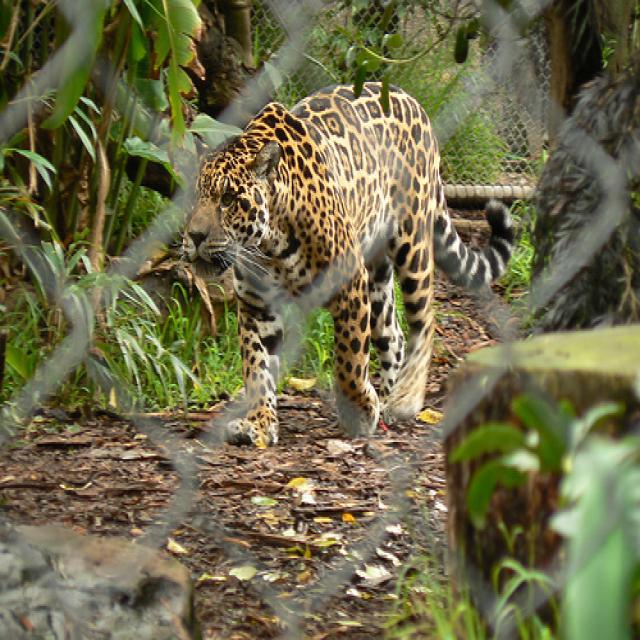Leopard: (166, 75, 516, 449)
